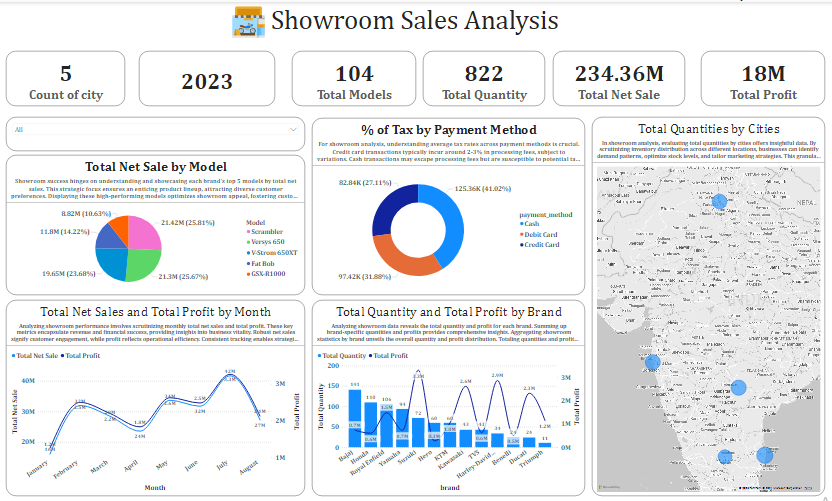

The page's visual inventory and layout, read from the dashboard file:
{"tool":"powerbi","page":{"name":"Dashboard","canvas":[2500,1500],"ordinal":5},"visuals":[{"type":"pieChart","fields":{"Category":["showroom sales.model"],"Y":["Sum(showroom sales.net_sales)"]},"box":[21,459,897,420],"z":0},{"type":"slicer","fields":{"Values":["showroom sales.brand"]},"box":[21,345,897,102],"z":1},{"type":"lineChart","title":"Total Net Sales and Total Profit by Month","fields":{"Category":["showroom sales.date.Variation.Date Hierarchy.Month"],"Y":["Sum(showroom sales.net_sales)"],"Y2":["Sum(showroom sales.profit)"]},"box":[21,894,897,588],"z":2},{"type":"lineStackedColumnComboChart","title":"Total Quantity and Total Profit by Brand","fields":{"Category":["showroom sales.brand"],"Y":["Sum(showroom sales.quantity_Sold)"],"Y2":["Sum(showroom sales.profit)"]},"box":[939,894,819,588],"z":3},{"type":"donutChart","title":"% of Tax by Payment Method","fields":{"Category":["showroom sales.payment_method"],"Y":["Avg(showroom sales.tax)"]},"box":[939,348,819,531],"z":4},{"type":"map","title":"Total Quantities by Cities","fields":{"Category":["showroom sales.city"],"Size":["Sum(showroom sales.quantity_Sold)"]},"box":[1779,345,699,1137],"z":5},{"type":"card","fields":{"Values":["Max(showroom sales.date.Variation.Date Hierarchy.Year)"]},"box":[420,147,408,165],"z":6},{"type":"card","fields":{"Values":["Count(showroom sales.city)"]},"box":[21,147,357,165],"z":7},{"type":"card","fields":{"Values":["Count(showroom sales.model)"]},"box":[879,147,372,165],"z":8},{"type":"card","fields":{"Values":["Sum(showroom sales.quantity_Sold)"]},"box":[1272,147,366,165],"z":9},{"type":"card","fields":{"Values":["Sum(showroom sales.net_sales)"]},"box":[1662,147,396,165],"z":10},{"type":"card","fields":{"Values":["Sum(showroom sales.profit)"]},"box":[2106,147,372,165],"z":11},{"type":"textbox","box":[810,0,879,126],"z":12},{"type":"image","box":[573,0,351,117],"z":13}]}

Visuals, with their boxes in screenshot pixels (x1, y1, x2, y2), scaled from the page's 2500x1500 canvas onto the 832x501 screenshot:
pieChart - showroom sales.model x Sum(showroom sales.net_sales): region(7, 153, 306, 294)
slicer - showroom sales.brand: region(7, 115, 306, 149)
"Total Net Sales and Total Profit by Month" lineChart: region(7, 299, 306, 495)
"Total Quantity and Total Profit by Brand" lineStackedColumnComboChart: region(312, 299, 585, 495)
"% of Tax by Payment Method" donutChart: region(312, 116, 585, 294)
"Total Quantities by Cities" map: region(592, 115, 825, 495)
card - Max(showroom sales.date.Variation.Date Hierarchy.Year): region(140, 49, 276, 104)
card - Count(showroom sales.city): region(7, 49, 126, 104)
card - Count(showroom sales.model): region(293, 49, 416, 104)
card - Sum(showroom sales.quantity_Sold): region(423, 49, 545, 104)
card - Sum(showroom sales.net_sales): region(553, 49, 685, 104)
card - Sum(showroom sales.profit): region(701, 49, 825, 104)
textbox: region(270, 0, 562, 42)
image: region(191, 0, 308, 39)
